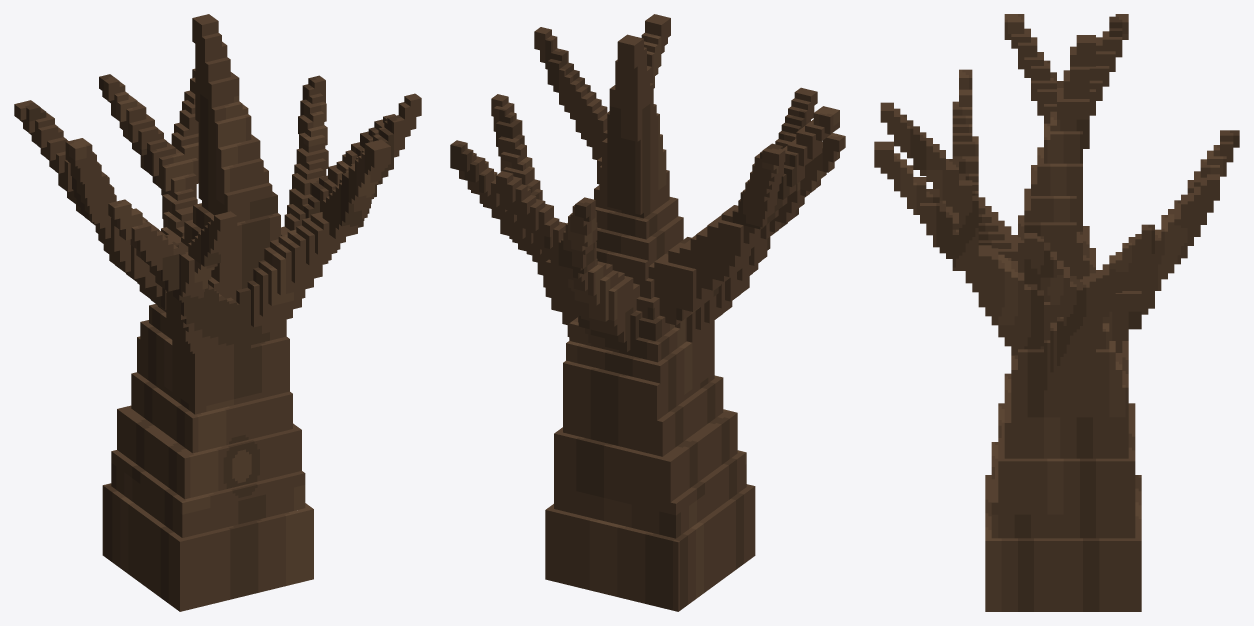
Rendered from apple_mature_winter.glb.
The picture shows the model from 3 angles, left to right: view 1: azimuth 30°, elevation 25°; view 2: azimuth 150°, elevation 25°; view 3: azimuth 270°, elevation 25°; orthographic projection.
Visible parts, largest first — view 1: VoxelVisual; view 2: VoxelVisual; view 3: VoxelVisual.
Boxes of the visible parts, bbox=[...] form: VoxelVisual: bbox=[14, 14, 421, 611]; VoxelVisual: bbox=[450, 14, 845, 611]; VoxelVisual: bbox=[874, 14, 1239, 611].
Size of what is drawn, in the model's own units: 7.5 by 11.5 by 7.
